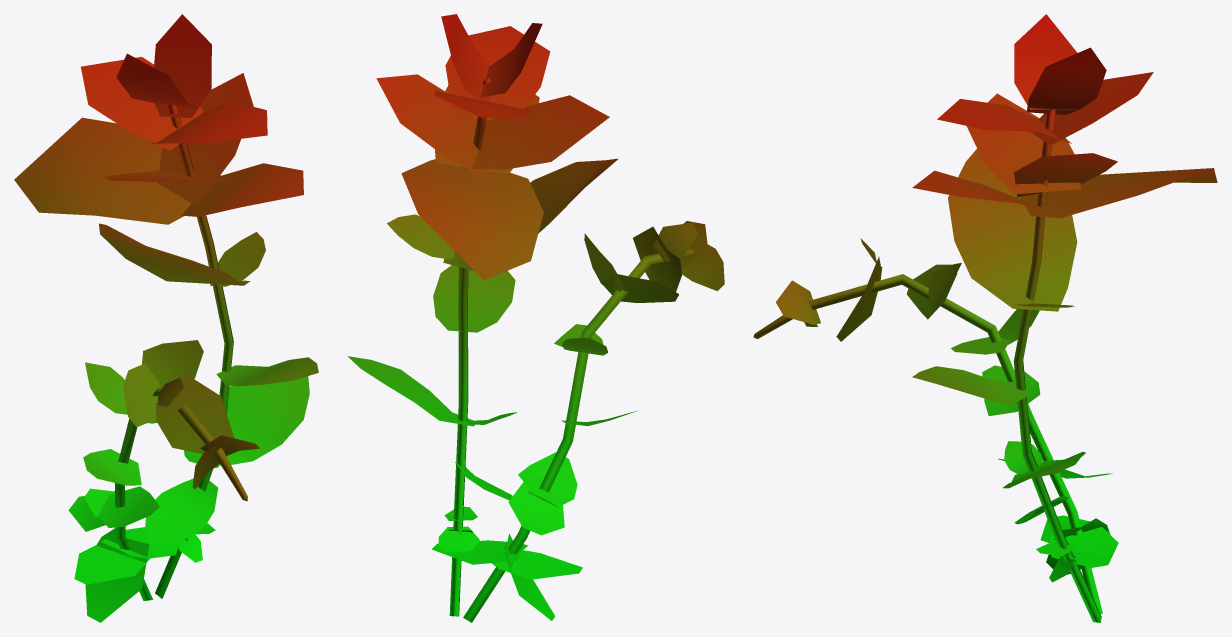
Rendered from Rubber Bush_LOD6_Var9_xffhfekia.fbx.
The picture shows the model from 3 angles, left to right: view 1: azimuth 30°, elevation 25°; view 2: azimuth 150°, elevation 25°; view 3: azimuth 270°, elevation 25°; orthographic projection. The views are drawn at different scales.
Visible parts, largest first — view 1: _hpbs_Var9_LOD6; view 2: _hpbs_Var9_LOD6; view 3: _hpbs_Var9_LOD6.
Part boxes in pixels (x1=…): _hpbs_Var9_LOD6: x1=14, y1=14, x2=318, y2=622; _hpbs_Var9_LOD6: x1=347, y1=14, x2=724, y2=622; _hpbs_Var9_LOD6: x1=753, y1=14, x2=1217, y2=622.
Bounding box in the file's own units: 19.93 × 43.92 × 31.63.
